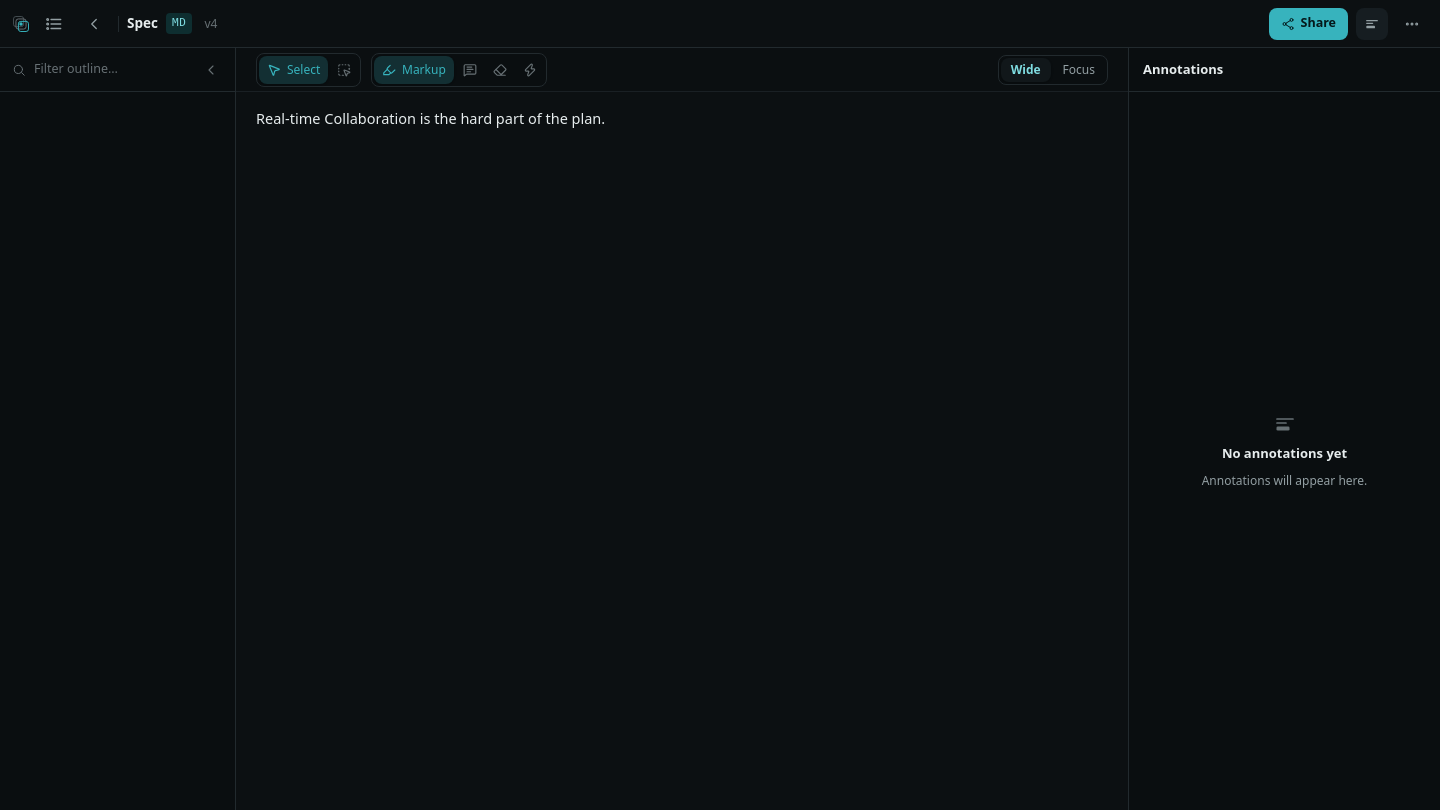
Test: Markup tool routing S-006 (C-009) › AS-023: Label tool active → selecting opens the label picker directly (no 5-type popover)
The image size is (1440, 810).
Expected: the element with test id "markdown-view" is shown, [256,108,605,128]
Expected: the element with test id "annotations-rail" is shown, [1129,48,1439,489]
Click the button named "Label". click: (530, 70)
box: [516,56,544,84]
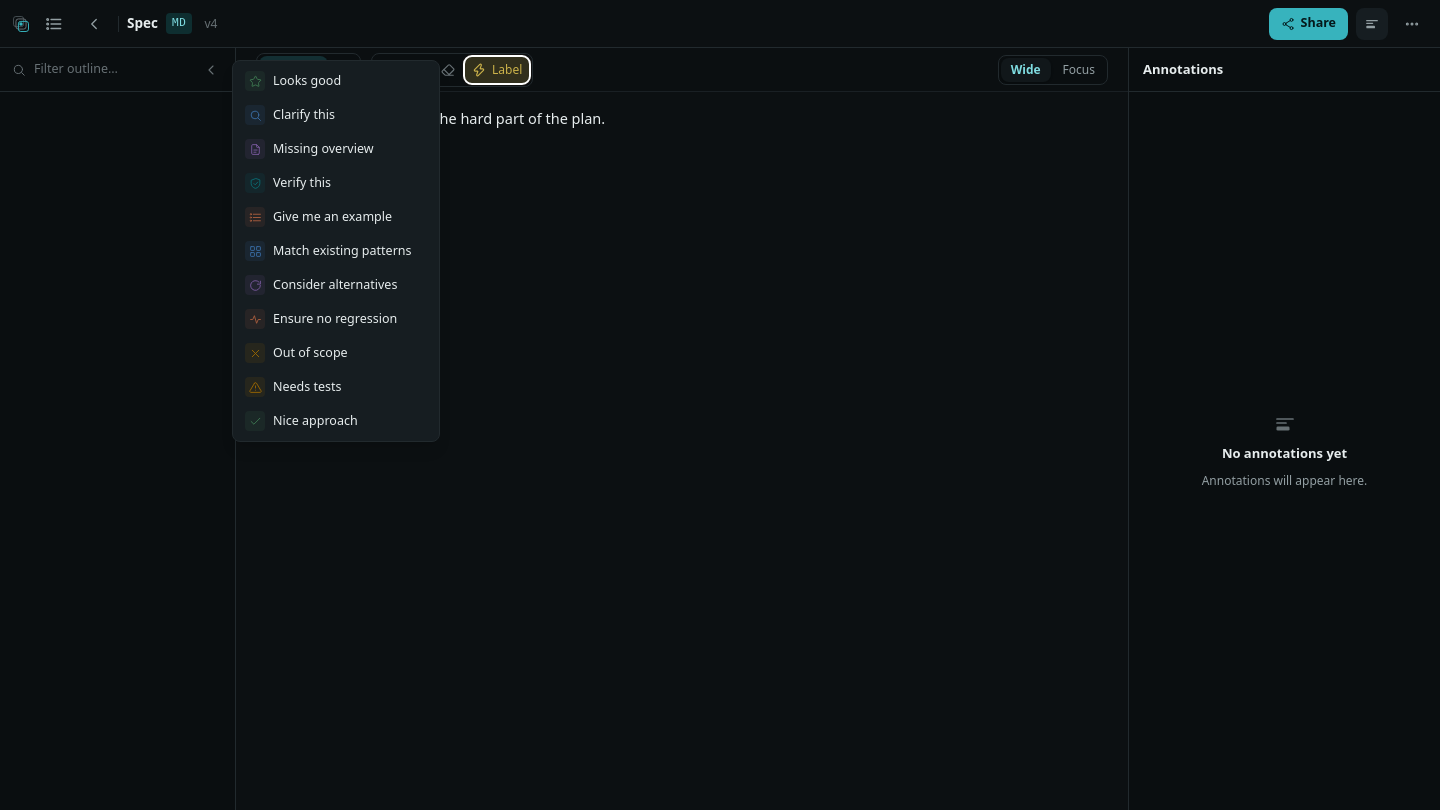
Expected: the menu with test id "label-picker" is shown, [232,60,440,442]
